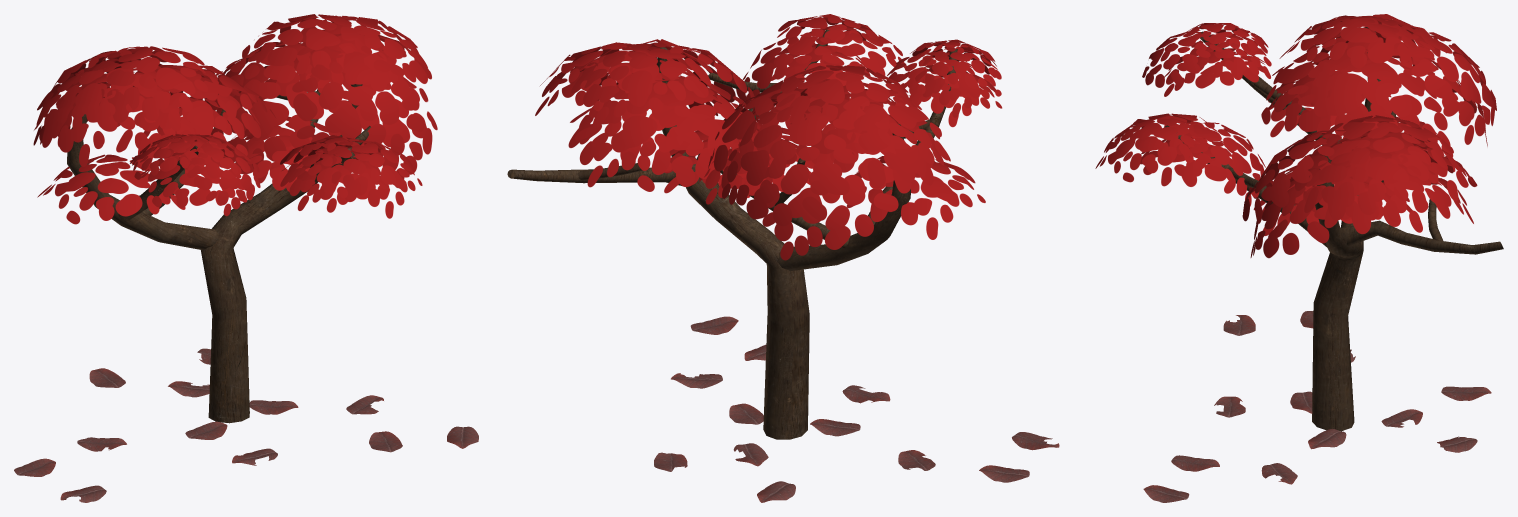
3 renders of one model, left to right at view 1: azimuth 30°, elevation 25°; view 2: azimuth 150°, elevation 25°; view 3: azimuth 270°, elevation 25°, orthographic. The views are drawn at different scales.
Visible parts, largest first — view 1: leaf.002; view 2: leaf.002; view 3: leaf.002.
Part boxes in pixels (x1,y1,x2,y2): leaf.002: (14,14,478,502); leaf.002: (507,14,1059,502); leaf.002: (1095,14,1503,502).
Bounding box in the file's own units: 6.75 × 5.33 × 5.46.
Materials: 3 (3 with a texture image).
